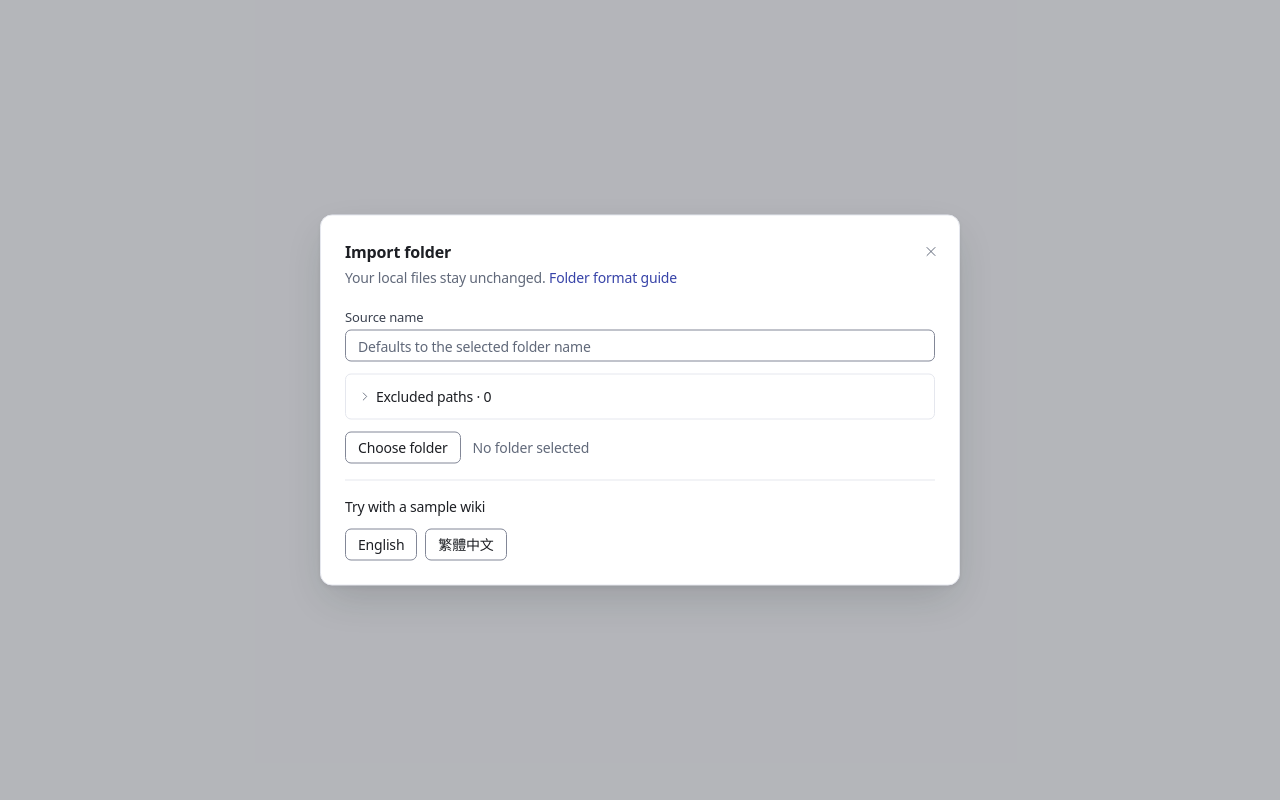
Scenario: locks and permits cancellation while the sample wiki is loading
What coordinates should you click on to do the following:
click the button "English"
I would click on:
 (381, 544)
Its box is [345,528,417,560].
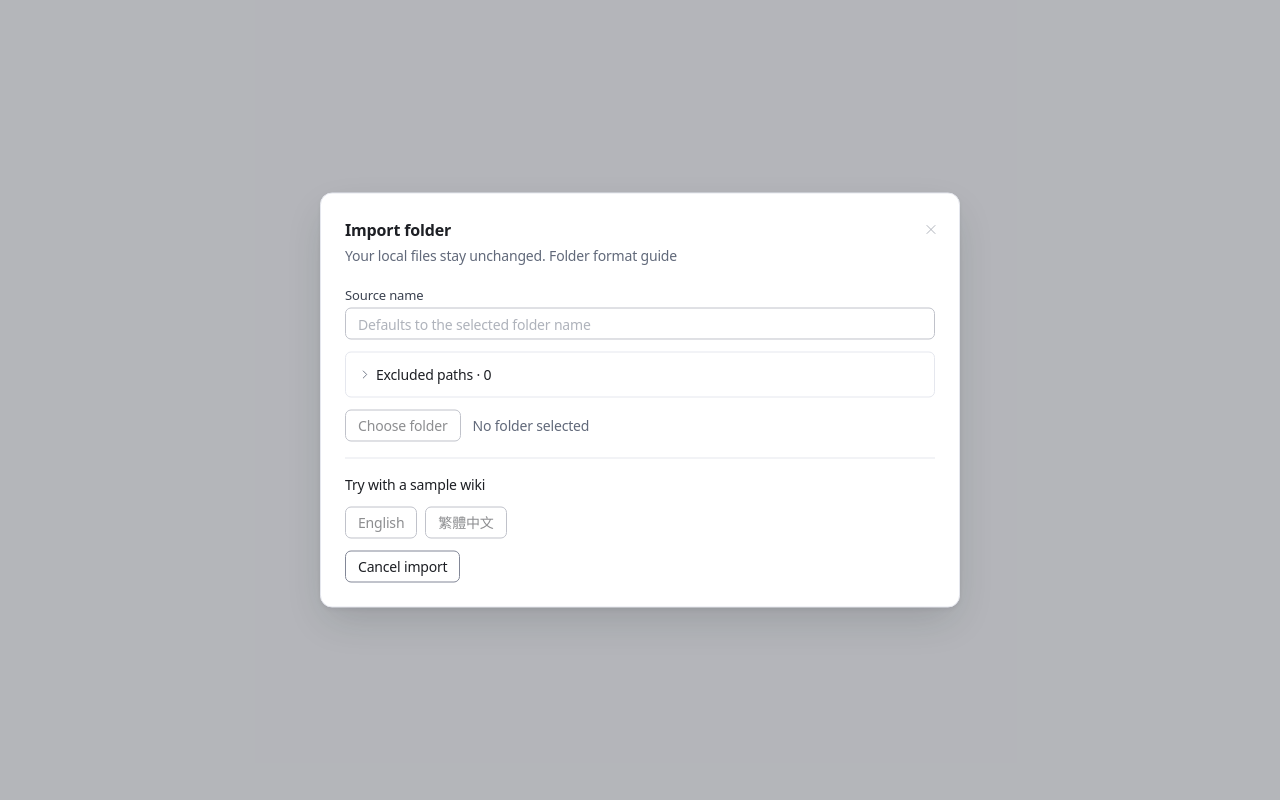
Expected: the button named "Close dialog" is disabled, [919,218,943,242]
What coordinates should you click on to do the following:
click the button "Cancel import"
I would click on:
 (403, 566)
Its box is [345,550,460,582].
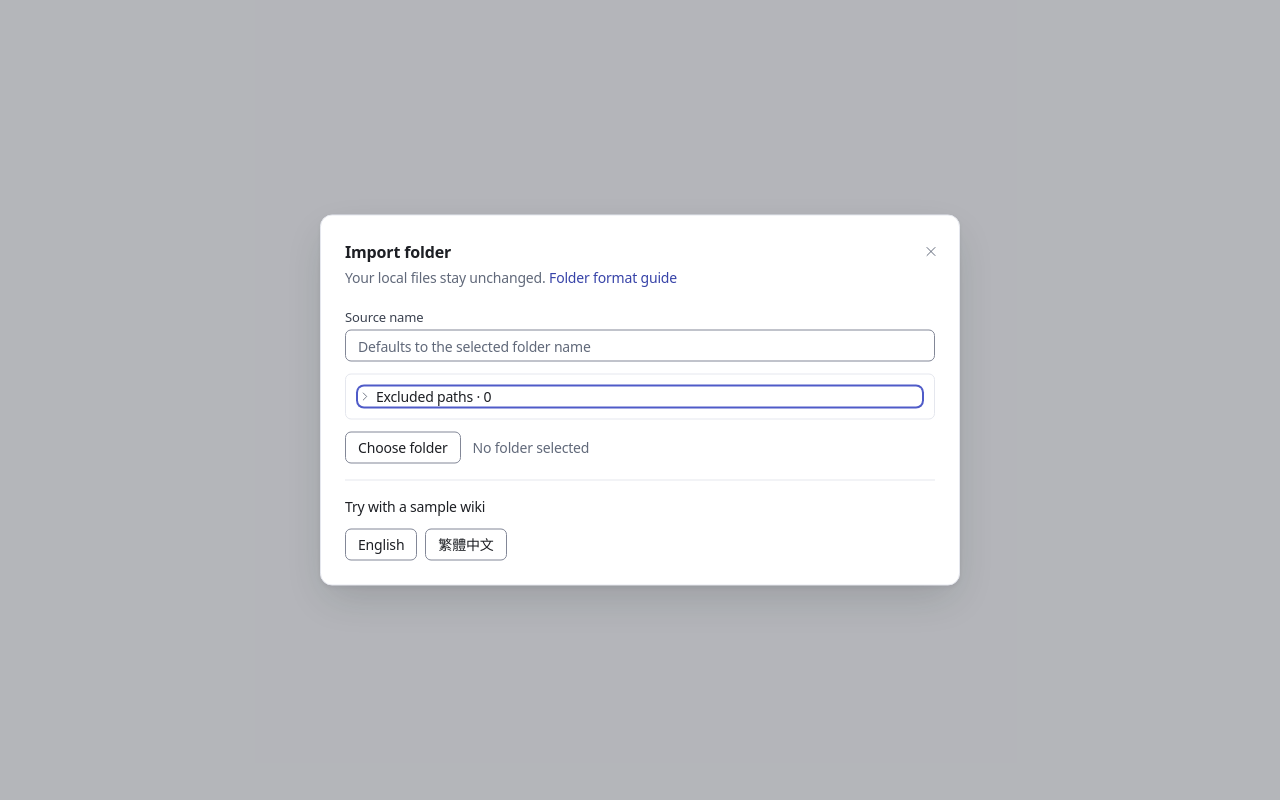
Expected: the button named "Close dialog" is enabled, [919,240,943,264]
